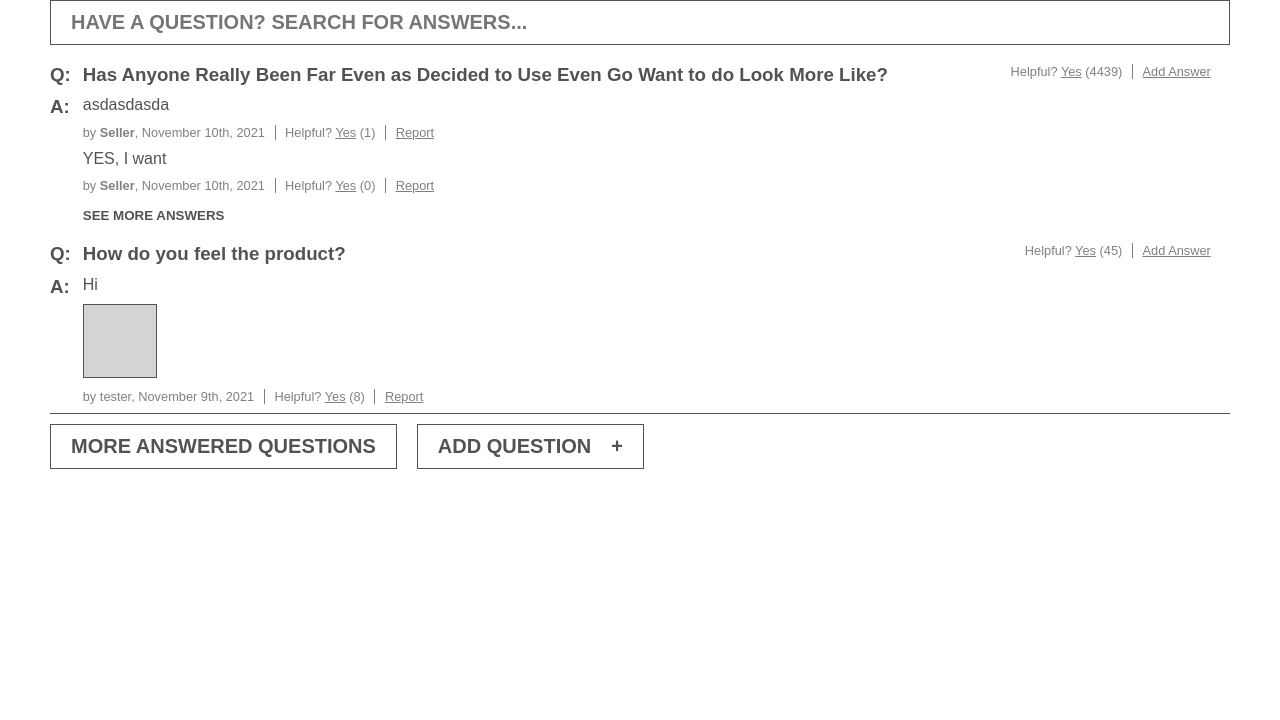
removes the modal
Click the button "Add Question +".
click(530, 446)  # box top-left (417, 424), bottom-right (644, 469)
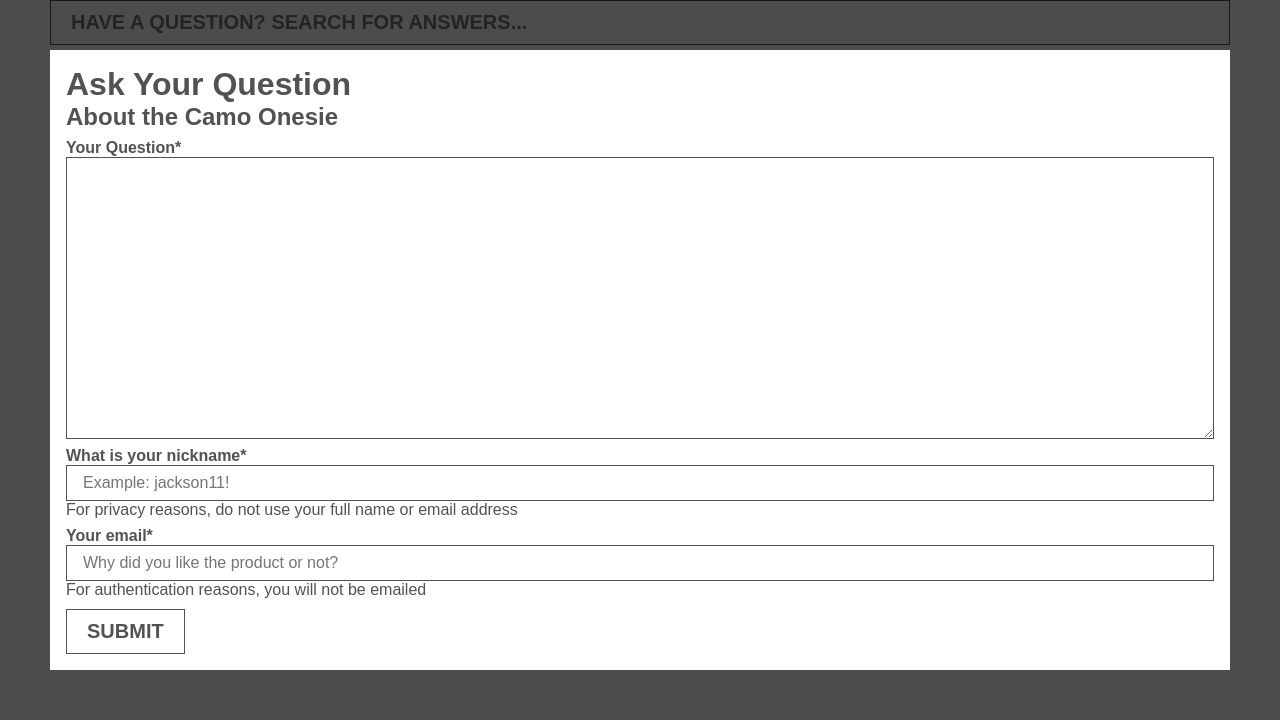
Click the dialog.
click(640, 677)  # box top-left (0, 0), bottom-right (1279, 719)
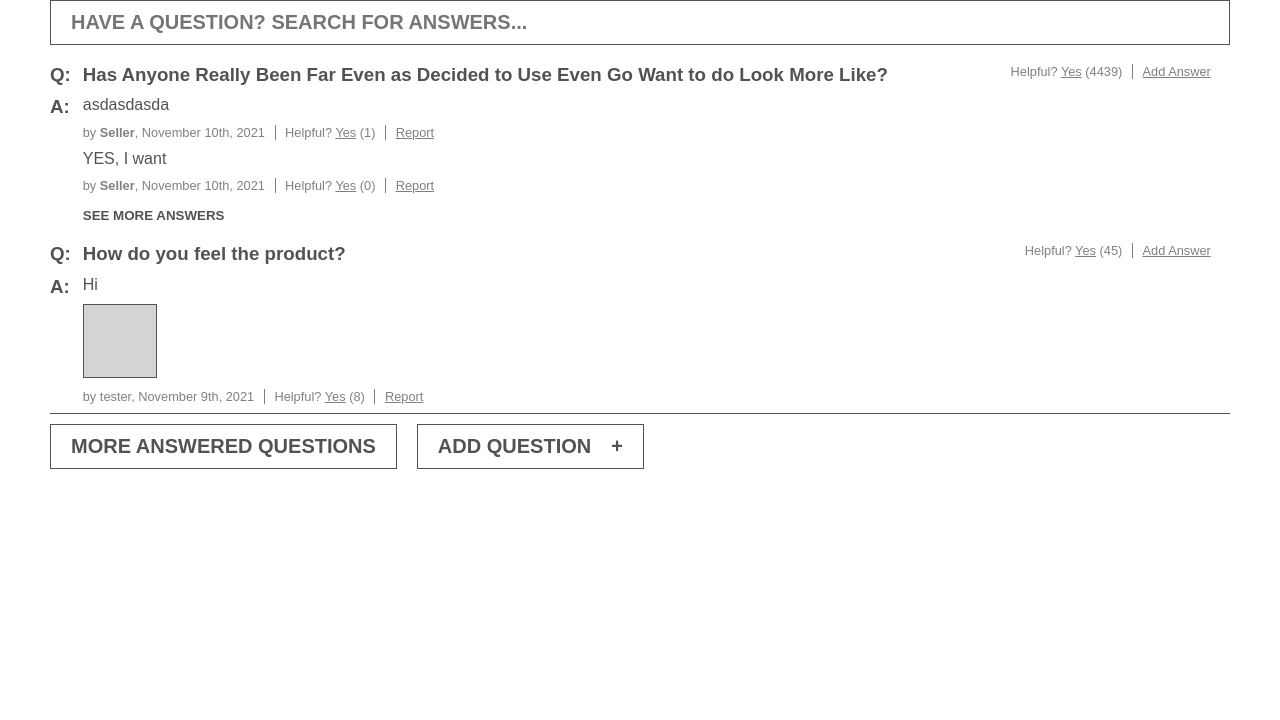
Check: the dialog is gone
